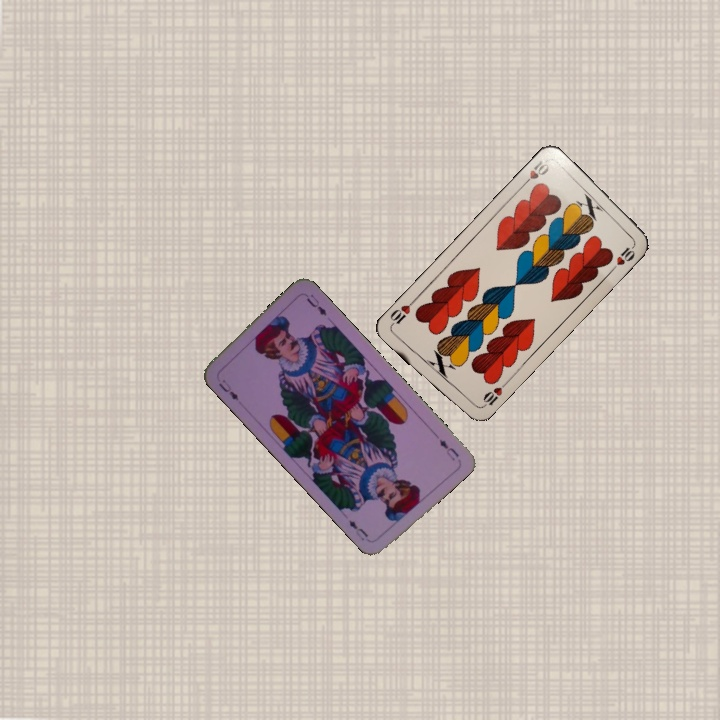EU: (214, 376, 241, 403), (435, 435, 461, 463)
H10: (518, 156, 552, 190), (476, 379, 509, 411)
